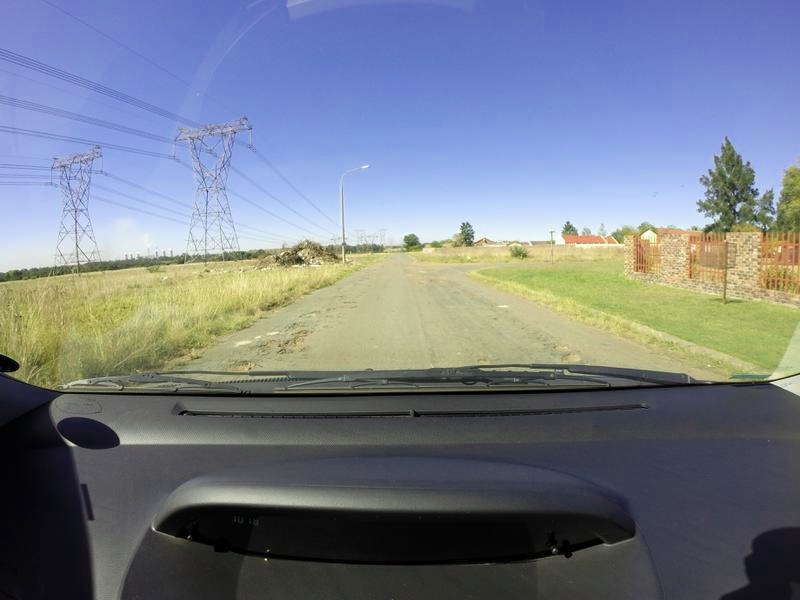pothole: (283, 328, 301, 347), (227, 362, 255, 371), (252, 339, 265, 357), (563, 354, 579, 363), (280, 348, 308, 352), (554, 347, 574, 351), (305, 310, 321, 314), (341, 299, 356, 303), (476, 359, 495, 362)
